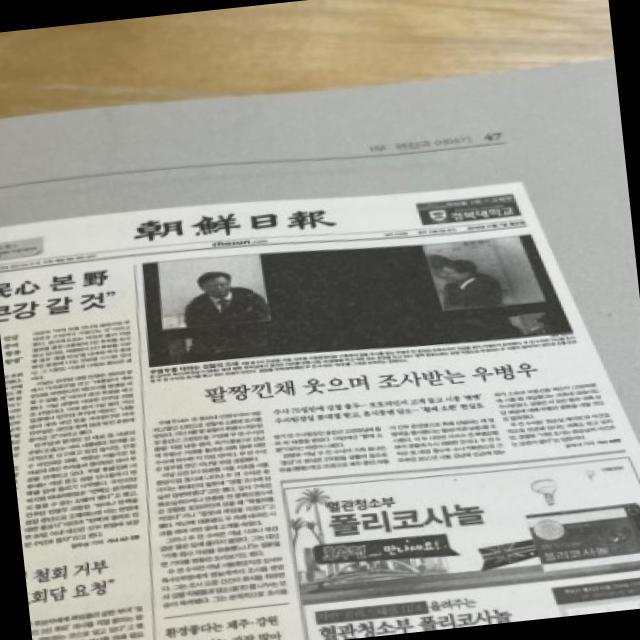reuseable_paper: (1, 170, 624, 640)
